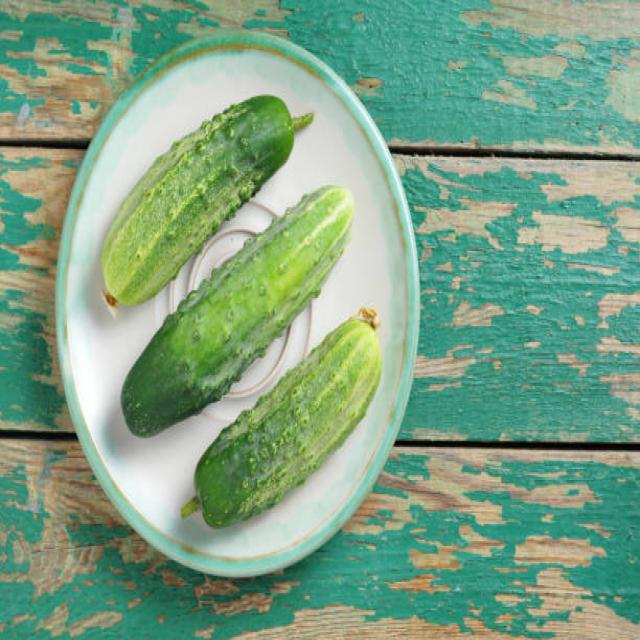cucumber: (120, 183, 356, 440), (99, 90, 296, 308), (194, 317, 382, 528)
